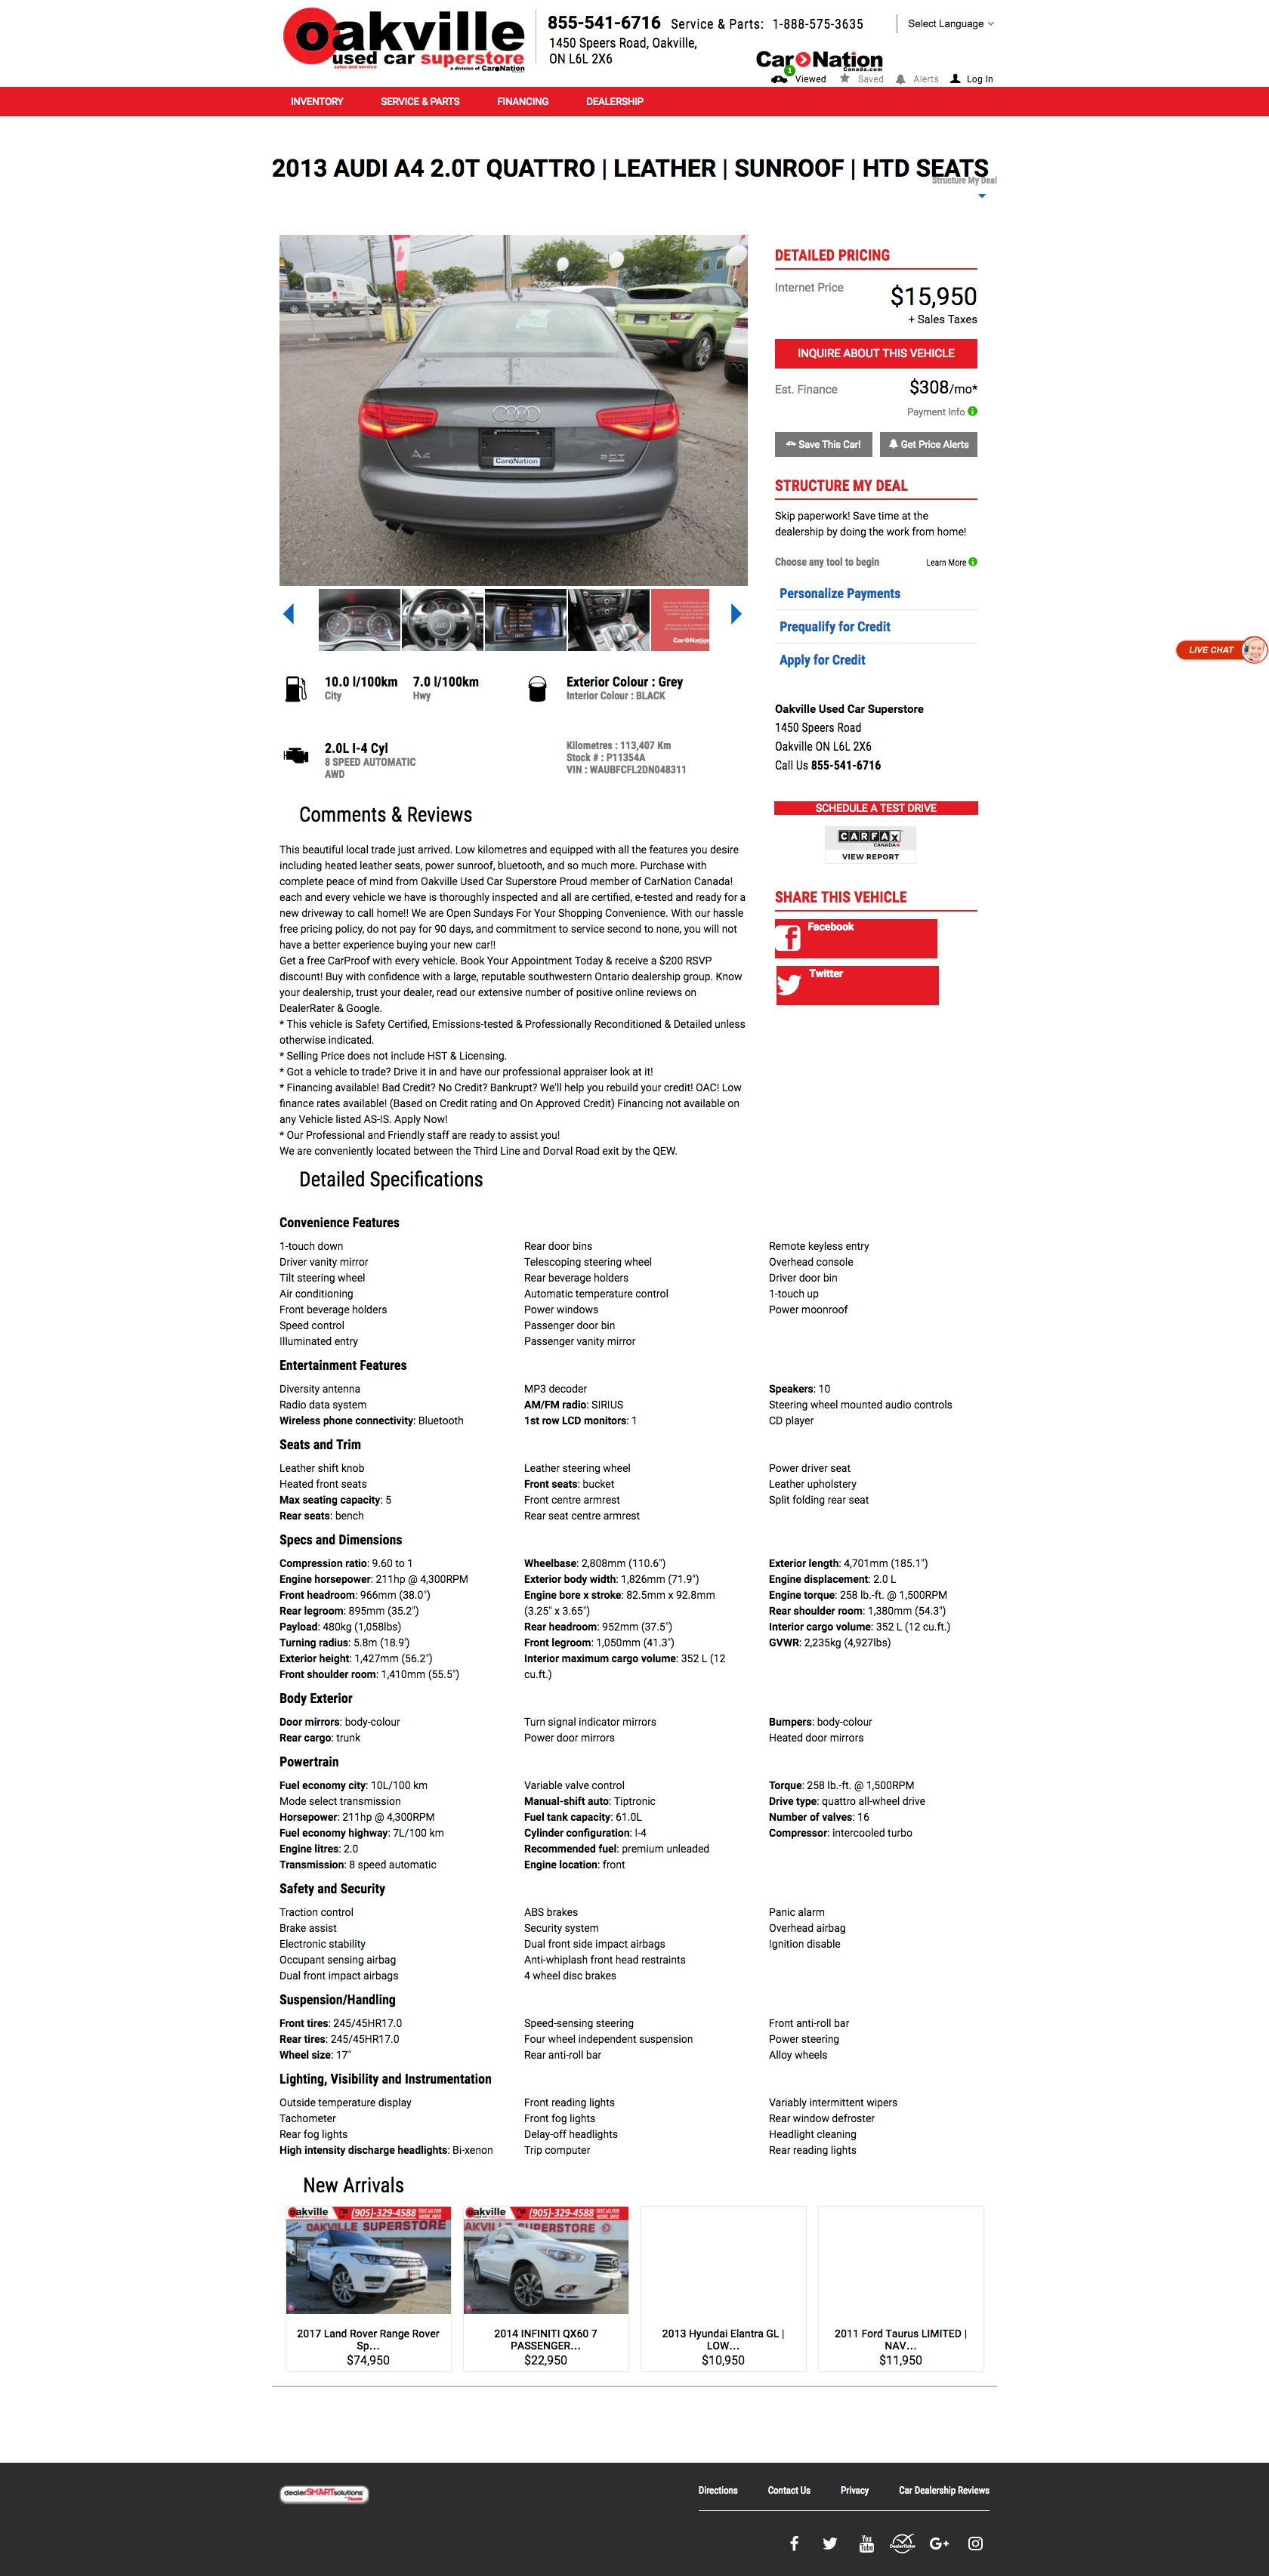car: (730, 603, 743, 626)
